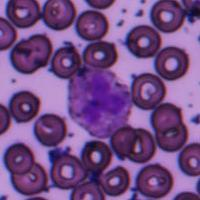E: (69, 69, 132, 138)
